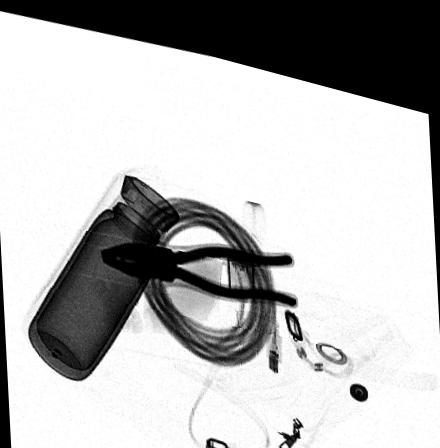Pliers: (100, 233, 298, 293)
